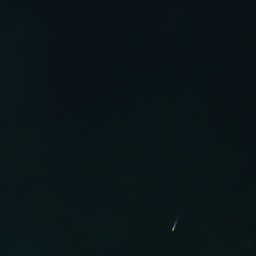Ship: (171, 224, 176, 232)
